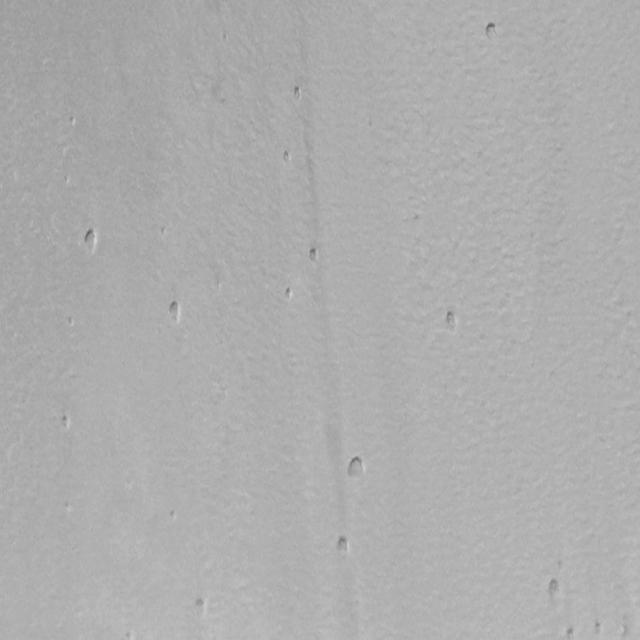pin holes: (345, 454, 371, 484), (441, 308, 463, 337), (544, 576, 566, 604), (79, 226, 100, 254), (165, 298, 185, 326), (482, 18, 504, 43), (190, 596, 211, 622), (333, 536, 354, 561), (305, 245, 325, 269), (277, 148, 297, 171), (619, 614, 637, 638), (57, 412, 74, 434), (291, 85, 307, 104), (563, 625, 580, 640), (284, 287, 298, 305), (593, 620, 605, 638), (214, 279, 224, 298), (166, 508, 178, 523), (66, 314, 76, 332), (159, 220, 167, 240), (68, 112, 76, 129), (123, 629, 136, 639), (62, 172, 70, 185)
